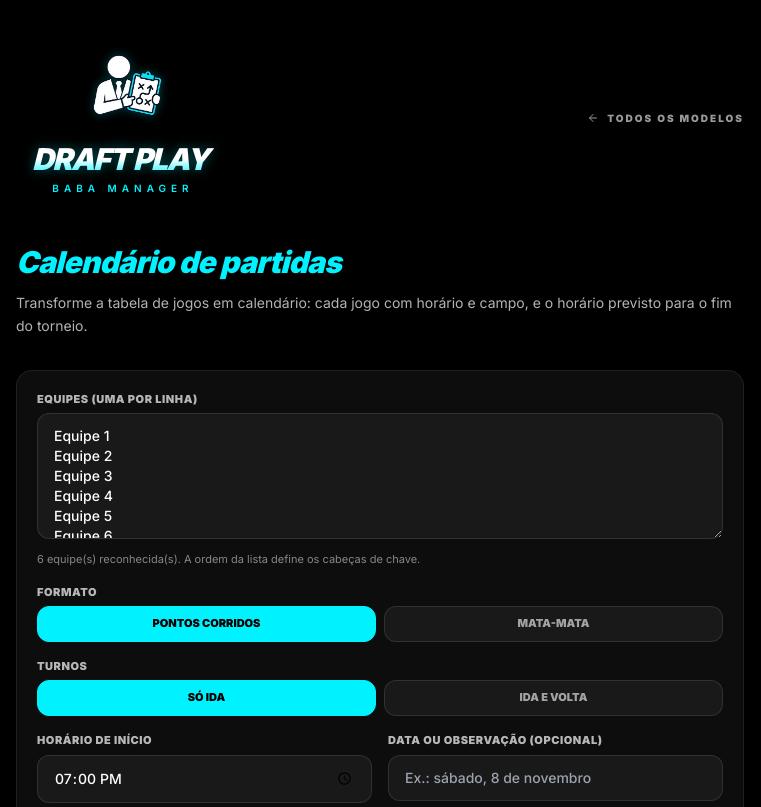
Test: Calendário de partidas › mostra o término previsto e valida o horário
Clear the time field labelled "Horário de início" at {"x": 204, "y": 778}, box left=37, top=754, right=372, bottom=802
(page scrolled)
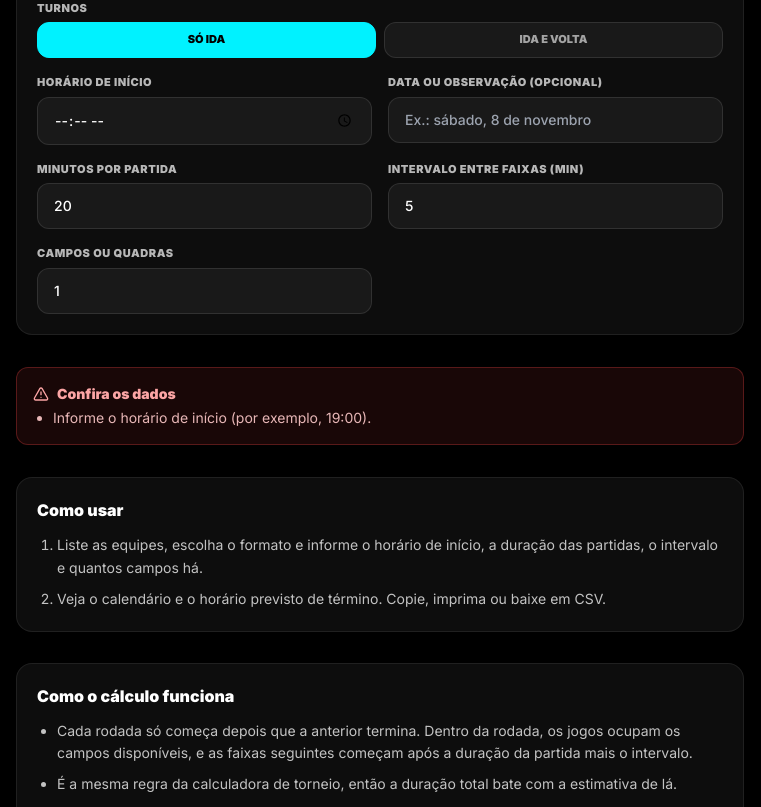
Now the message shows "horário de início", box left=53, top=408, right=371, bottom=426
